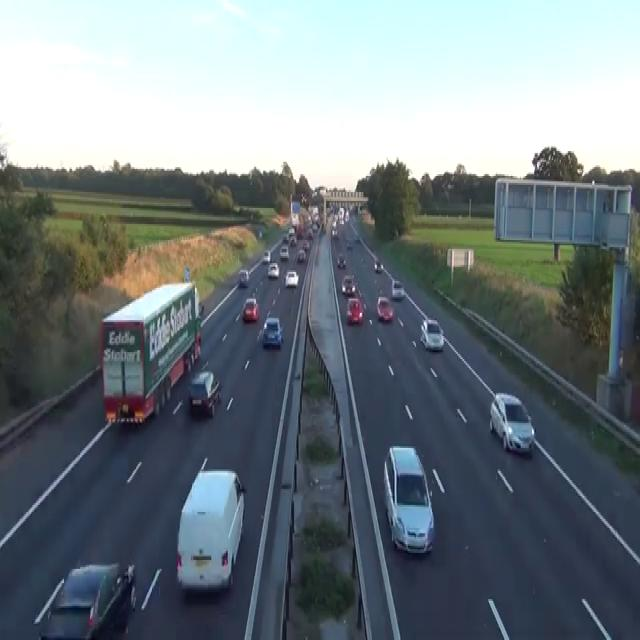Car: (175, 457, 246, 595), (32, 560, 136, 638), (383, 444, 434, 554), (489, 391, 535, 455), (187, 370, 221, 418), (420, 316, 444, 351), (262, 316, 283, 348), (376, 295, 393, 322), (346, 297, 363, 323), (242, 297, 259, 322), (341, 274, 356, 295), (391, 277, 404, 299), (284, 270, 299, 286), (195, 290, 204, 316), (238, 268, 249, 286), (267, 262, 279, 278), (337, 252, 346, 268), (279, 246, 289, 260), (261, 249, 270, 263), (297, 247, 305, 261), (374, 260, 382, 272), (198, 300, 204, 314), (289, 235, 297, 245), (346, 238, 353, 249), (302, 240, 309, 251), (288, 226, 295, 236), (306, 228, 313, 238), (282, 233, 288, 243), (331, 228, 338, 236), (332, 218, 337, 228), (354, 234, 360, 242), (258, 228, 262, 238)
Truck: (100, 279, 202, 425)
